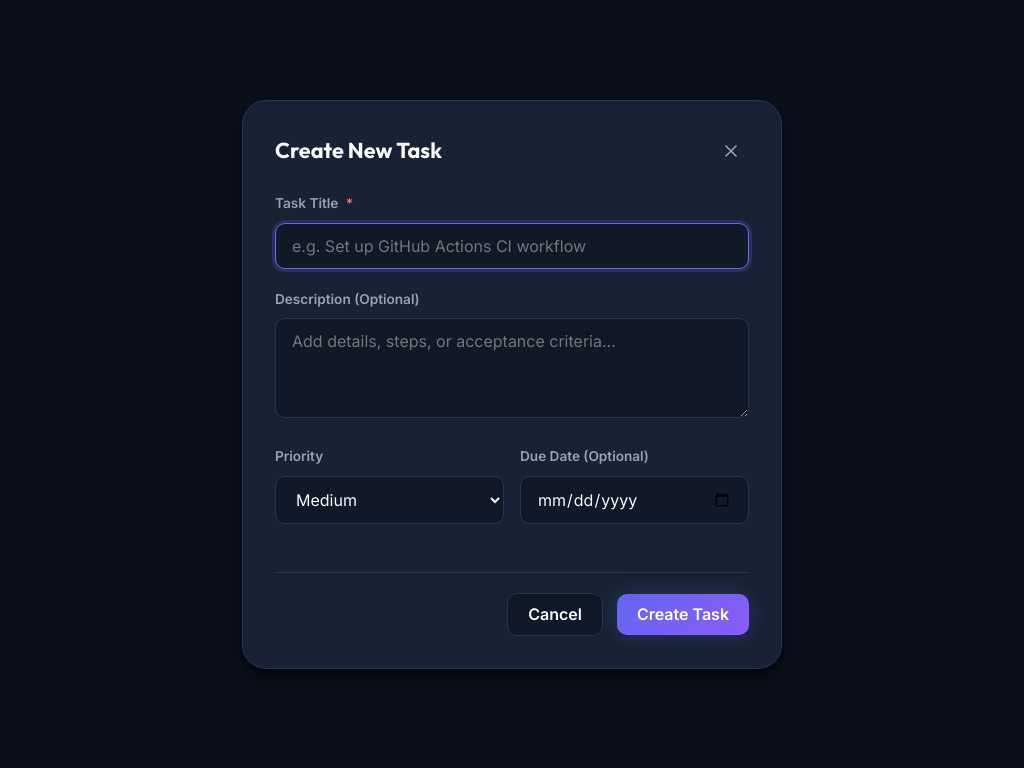
Test case: TaskModal Component › validates title field on empty submit and displays error
This screenshot has width=1024, height=768.
Click the button "Create Task" at (683, 614), box [617,594,749,634]
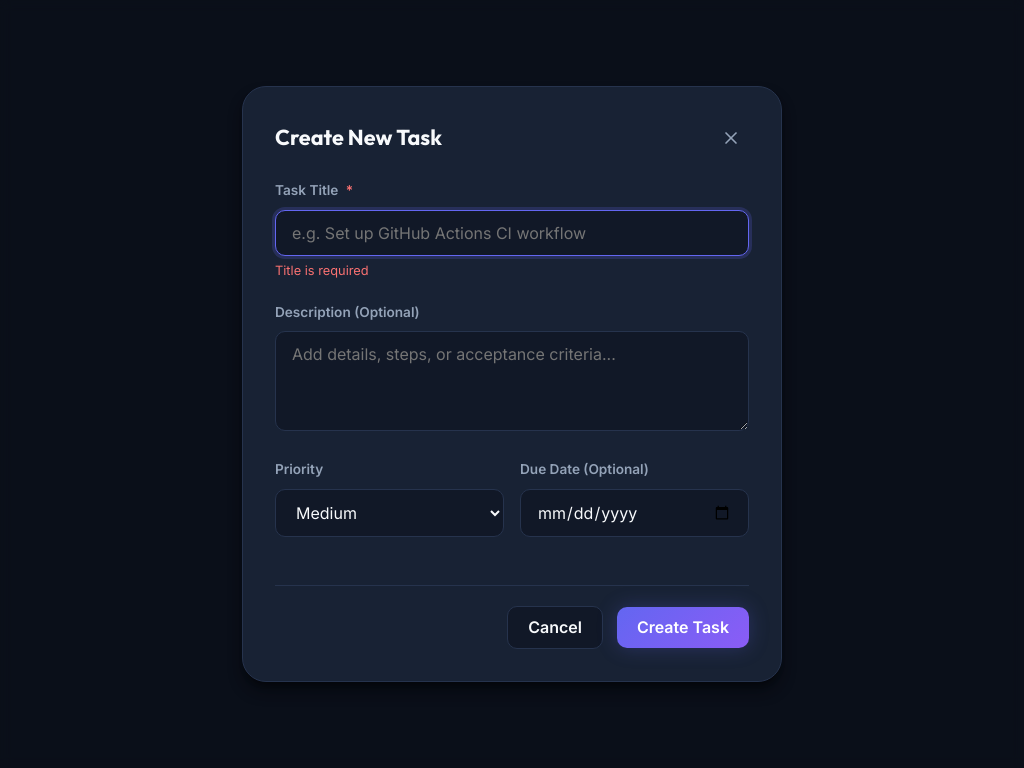
Expected: the text "Title is required" is shown, [275,263,369,278]
